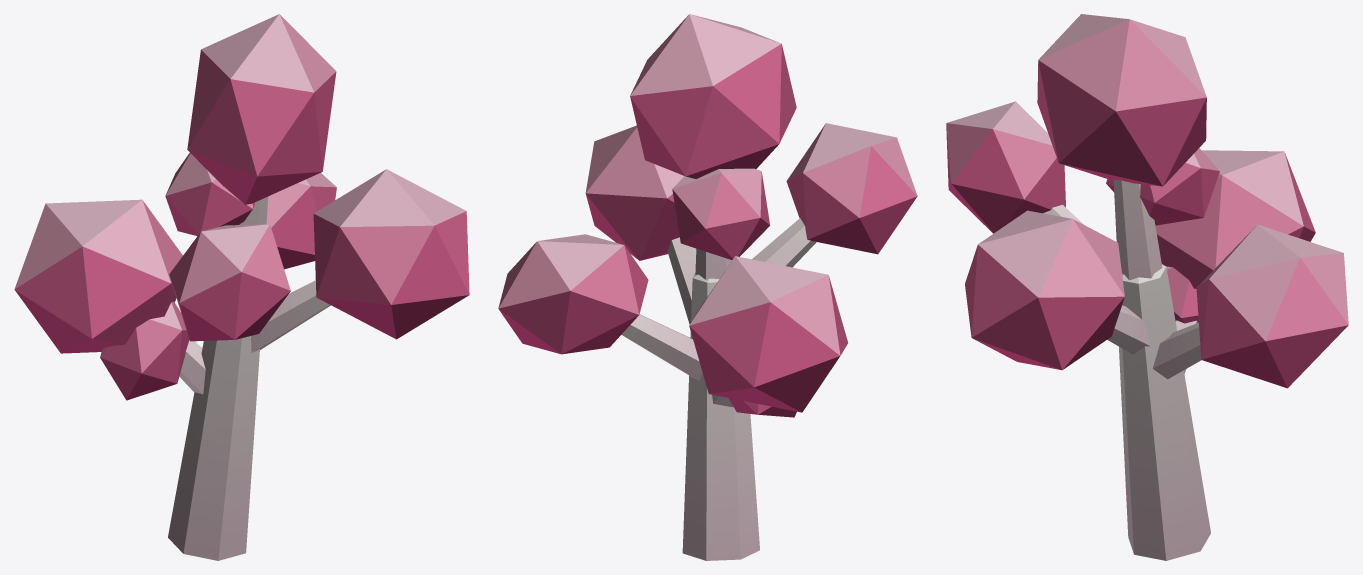
File: coral-softtree.glb
3 renders of one model, left to right at view 1: azimuth 30°, elevation 25°; view 2: azimuth 150°, elevation 25°; view 3: azimuth 270°, elevation 25°, orthographic. The views are drawn at different scales.
Parts seen in each view (by area): view 1: coral-softtree_mesh; view 2: coral-softtree_mesh; view 3: coral-softtree_mesh.
Part boxes in pixels (x1=…): coral-softtree_mesh: x1=14, y1=14, x2=469, y2=560; coral-softtree_mesh: x1=498, y1=14, x2=917, y2=560; coral-softtree_mesh: x1=946, y1=14, x2=1348, y2=560.
Bounding box in the file's own units: 2.38 × 3.42 × 2.26.
